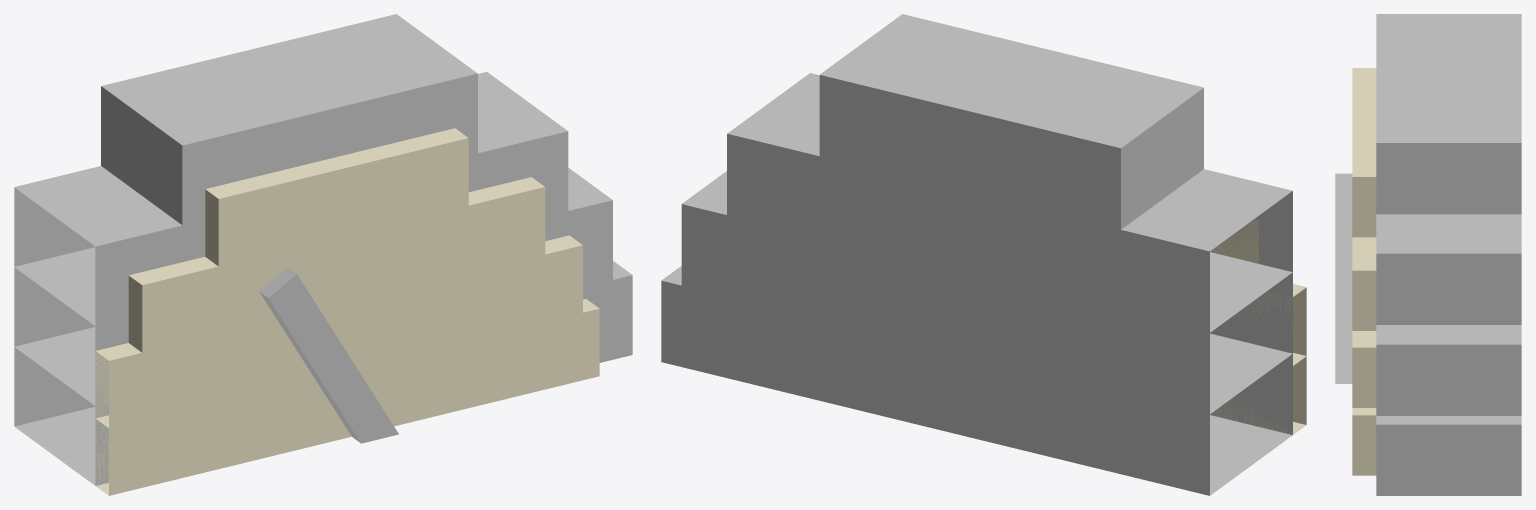
Rendered from cell_35.obj.
3 views of the same model, side by side, from view 1: azimuth 30°, elevation 25°; view 2: azimuth 150°, elevation 25°; view 3: azimuth 270°, elevation 25° (orthographic). The views are drawn at different scales.
Bounding box in the file's own units: 0.1431 × 0.0812 × 0.0481.
